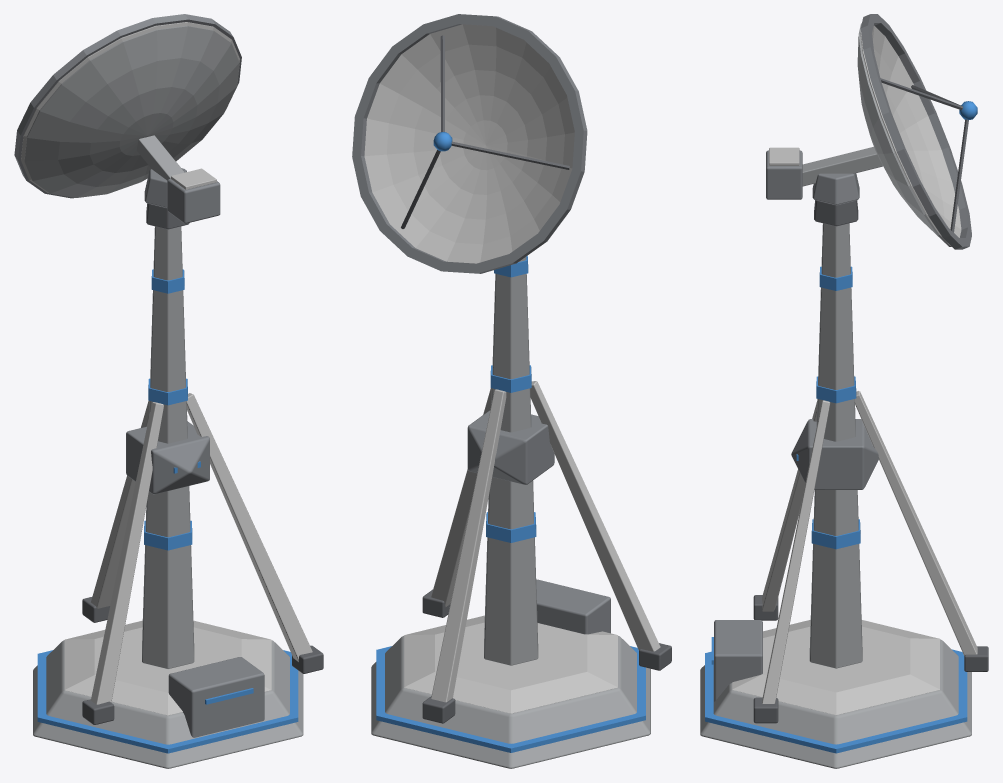
Rendered from lattice_radar_tower.glb.
3 views of the same model, side by side, from view 1: azimuth 30°, elevation 25°; view 2: azimuth 150°, elevation 25°; view 3: azimuth 270°, elevation 25° (orthographic). The views are drawn at different scales.
Parts seen in each view (by area): view 1: Body, Rotor_Y; view 2: Body, Rotor_Y; view 3: Body, Rotor_Y.
Boxes of the visible parts, x1,y1,x2,y2 form: Body: (33, 203, 323, 768); Rotor_Y: (14, 14, 241, 223); Body: (371, 256, 671, 768); Rotor_Y: (352, 14, 587, 273); Body: (700, 200, 988, 768); Rotor_Y: (766, 14, 977, 249).
Bounding box in the file's own units: 5.12 × 12.26 × 4.73.
